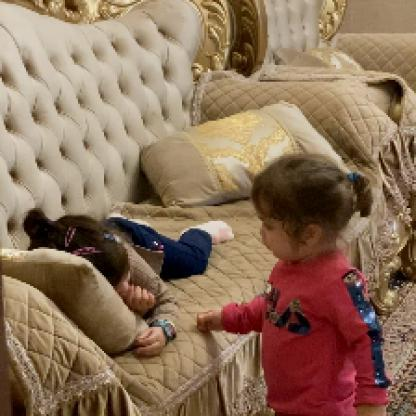child: (194, 152, 395, 416), (22, 207, 234, 359)
